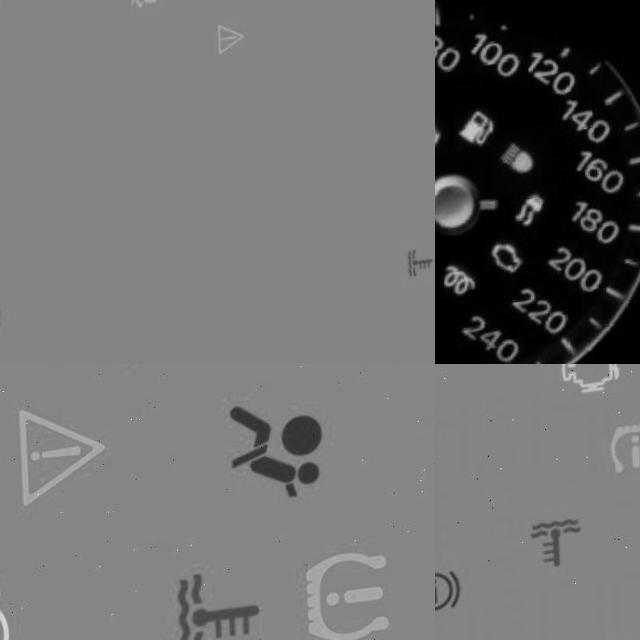High Engine Coolant Temperature: (398, 256, 435, 296)
Low fuel level: (452, 103, 499, 154)
